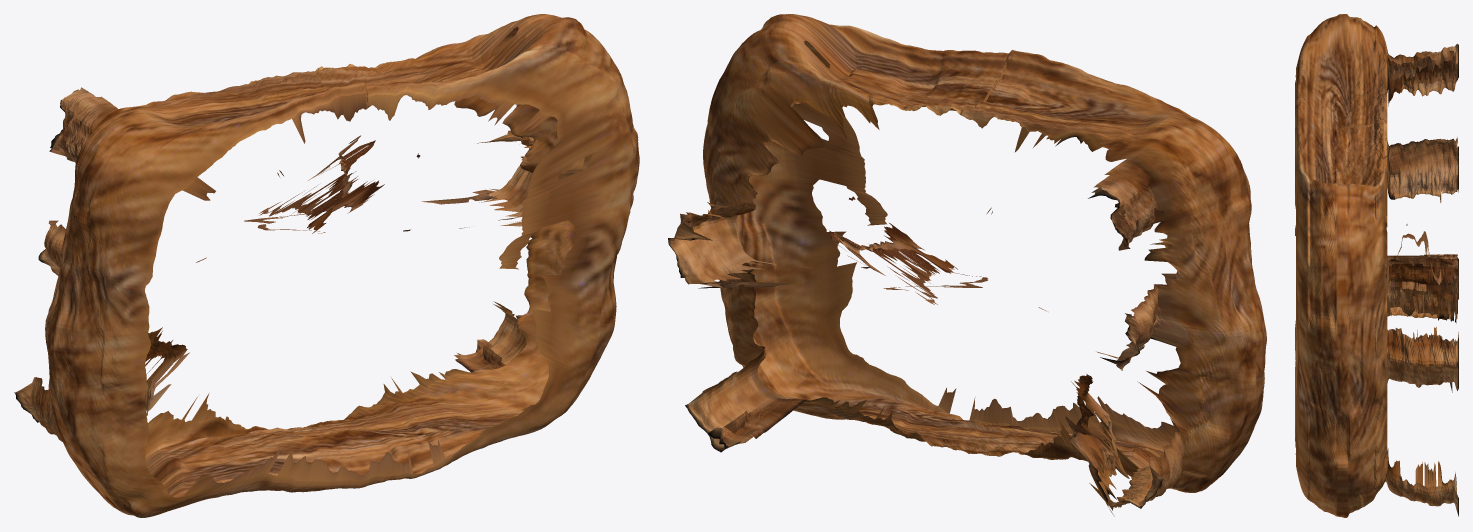
3 renders of one model, left to right at view 1: azimuth 30°, elevation 25°; view 2: azimuth 150°, elevation 25°; view 3: azimuth 270°, elevation 25°, orthographic. The views are drawn at different scales.
Parts seen in each view (by area): view 1: geometry_0; view 2: geometry_0; view 3: geometry_0.
Part boxes in pixels (bbox=[...]): geometry_0: bbox=[14, 14, 639, 517]; geometry_0: bbox=[668, 14, 1266, 516]; geometry_0: bbox=[1295, 14, 1458, 517].
Size of the model in its own units: 1.98 by 1.32 by 0.5783.
Materials: 1 (1 with a texture image).
